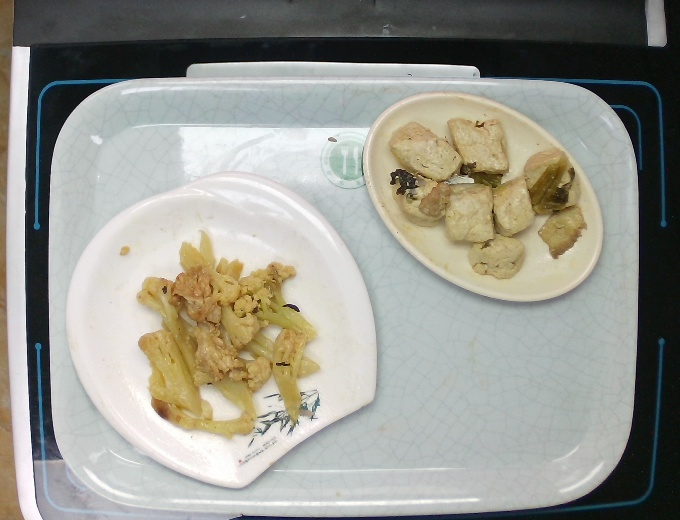JYsf-Mian_Pan: (49, 171, 389, 490)
JYsf-Tuo_Yuan_Wan: (363, 82, 606, 306)
